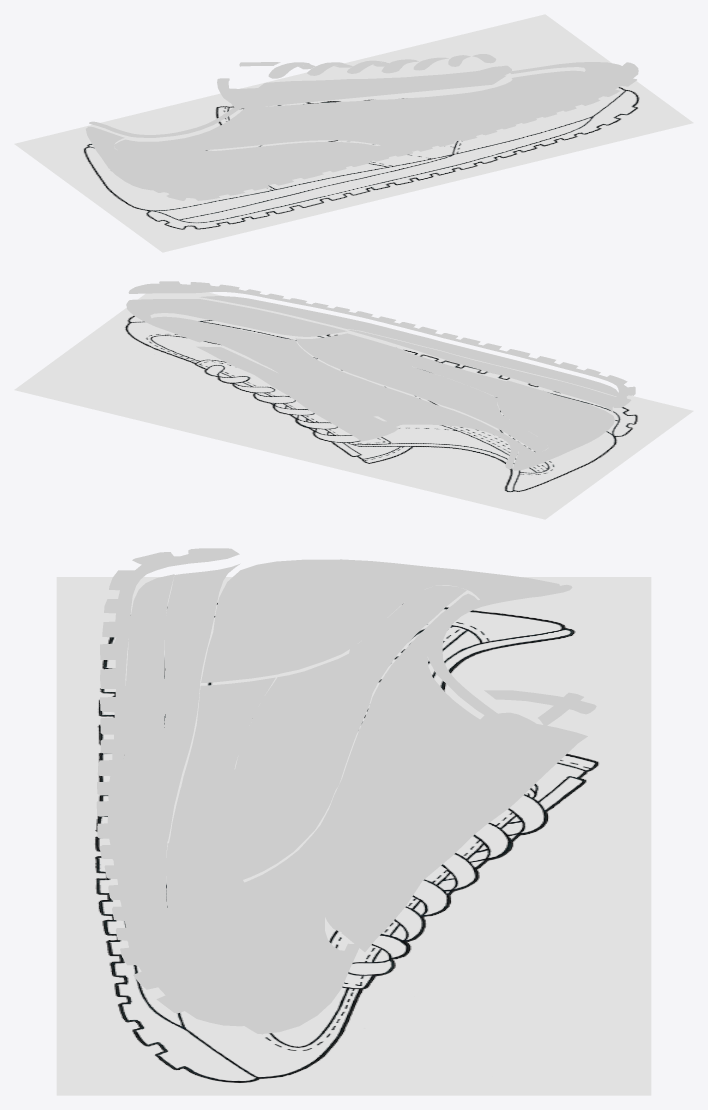
File: PumaEasyRider.FBX
3 views of the same model, one above another, from view 1: azimuth 30°, elevation 25°; view 2: azimuth 150°, elevation 25°; view 3: azimuth 270°, elevation 25° (orthographic). The views are drawn at different scales.
Visible parts, largest first — view 1: Plane001, Line007, Line008, Line005, Line001, Line004, Line011, Line002, Line003, Line024, Line017, Line006 (+1 smaller); view 2: Plane001, Line007, Line008, Line005, Line004, Line002, Line001, Line024, Line003, Line011, Line017, Line006 (+1 smaller); view 3: Plane001, Line007, Line008, Line005, Line004, Line002, Line001, Line003, Line011, Line024, Line017, Line006 (+2 smaller).
Part boxes in pixels (x1,y1,x2,y2): Plane001: (14, 14, 693, 252); Line007: (116, 70, 583, 158); Line008: (114, 110, 465, 152); Line005: (85, 126, 271, 190); Line001: (147, 62, 638, 200); Line004: (453, 62, 621, 130); Line011: (248, 65, 511, 97); Line002: (189, 94, 588, 198); Line003: (167, 131, 451, 193); Line024: (229, 75, 506, 108); Line017: (268, 54, 496, 78); Line006: (253, 143, 375, 166); Plane001: (14, 292, 693, 519); Line007: (152, 316, 534, 452); Line008: (295, 333, 548, 452); Line005: (497, 380, 614, 470); Line004: (126, 299, 347, 341); Line002: (199, 296, 618, 396); Line001: (128, 281, 635, 407); Line024: (196, 346, 398, 441); Line003: (348, 330, 615, 412); Line011: (195, 332, 389, 416); Line017: (205, 325, 362, 402); Line006: (405, 352, 506, 397); Plane001: (56, 577, 651, 1095); Line007: (235, 593, 479, 1003); Line008: (169, 586, 466, 879); Line005: (201, 559, 559, 682); Line004: (166, 843, 360, 1033); Line002: (121, 574, 180, 970); Line001: (96, 548, 257, 1026); Line003: (160, 563, 240, 841); Line011: (324, 712, 523, 933); Line024: (342, 724, 587, 951); Line017: (343, 712, 546, 896); Line006: (181, 677, 275, 787).
Size of the model in its own units: 258 by 19.69 by 125.
